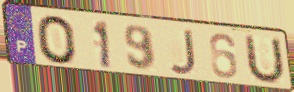1: (91, 19, 115, 71)
6: (208, 32, 240, 80)
9: (122, 23, 158, 73)
J: (168, 28, 199, 77)
O: (34, 14, 80, 67)
U: (244, 33, 287, 86)
